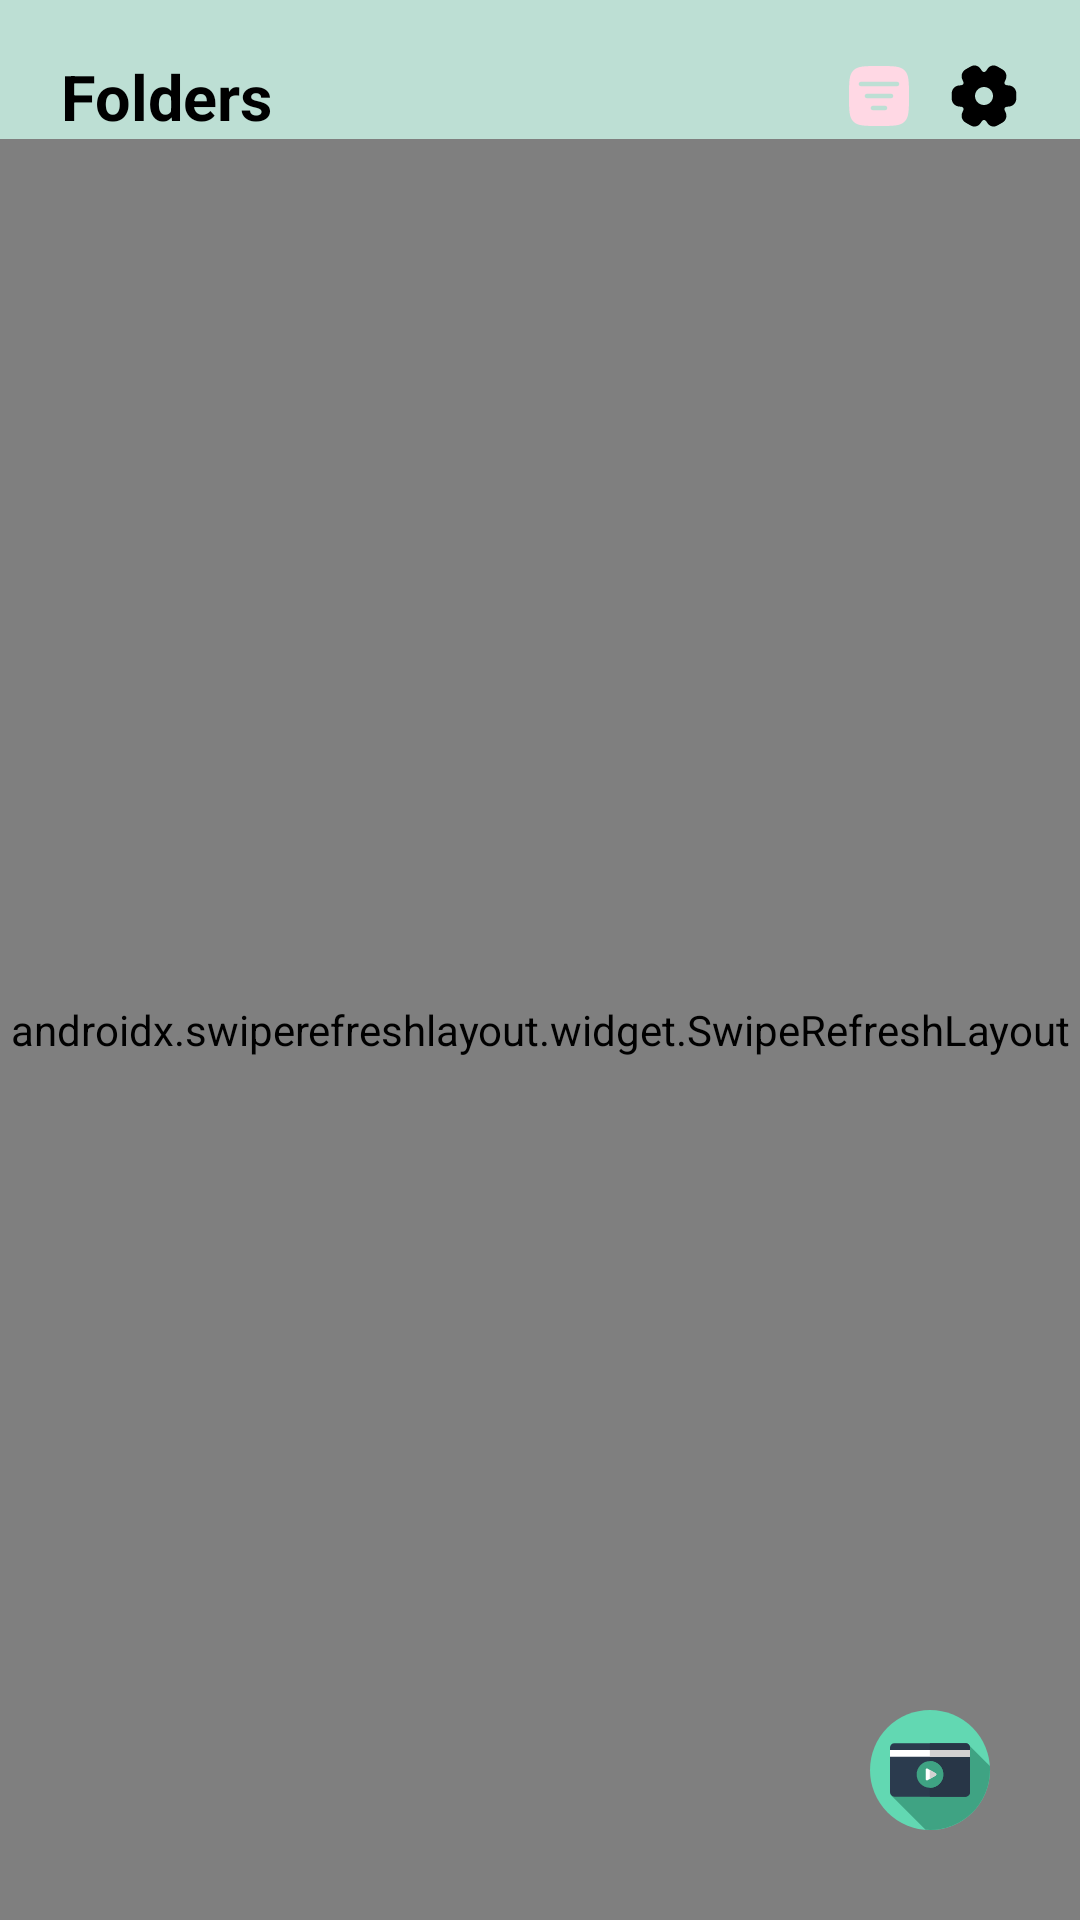

Named icons in this screenshot (1080 x 1920) and their centers, [x,y]:
app: [930,1770]
sort: [879,96]
